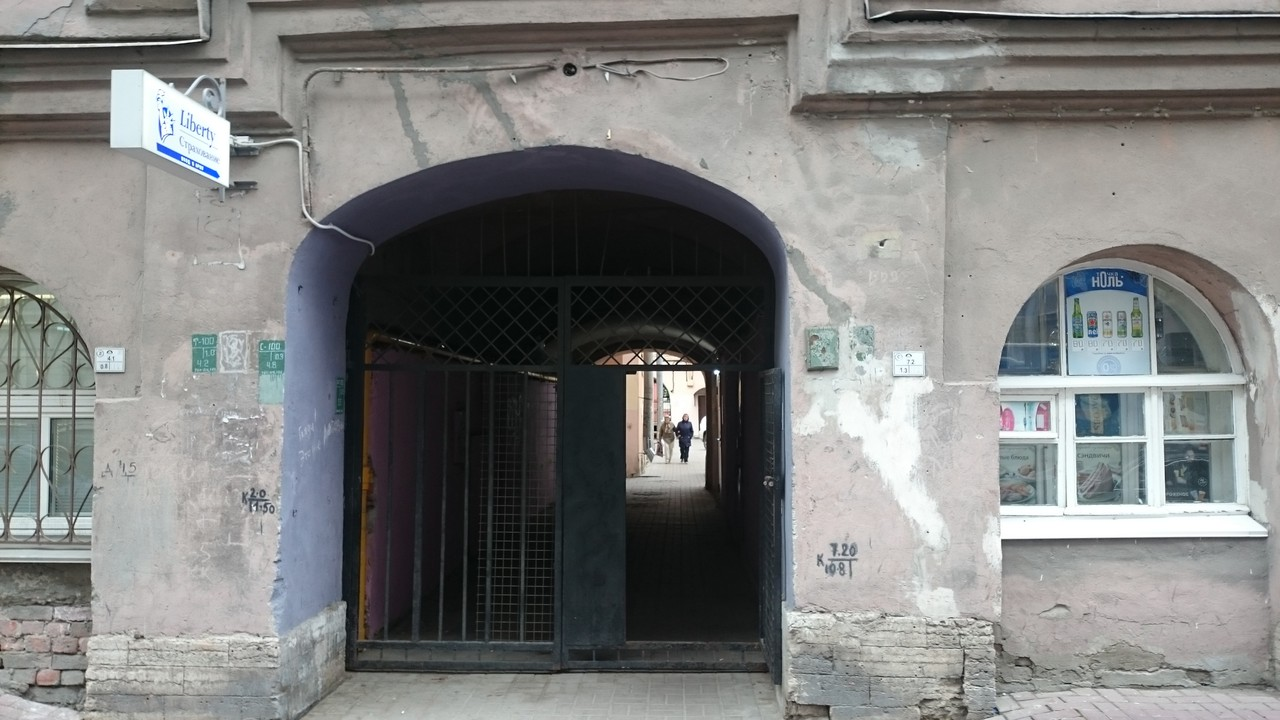arch: (282, 146, 796, 716)
cantilever: (107, 67, 262, 192)
window: (988, 258, 1250, 515)
